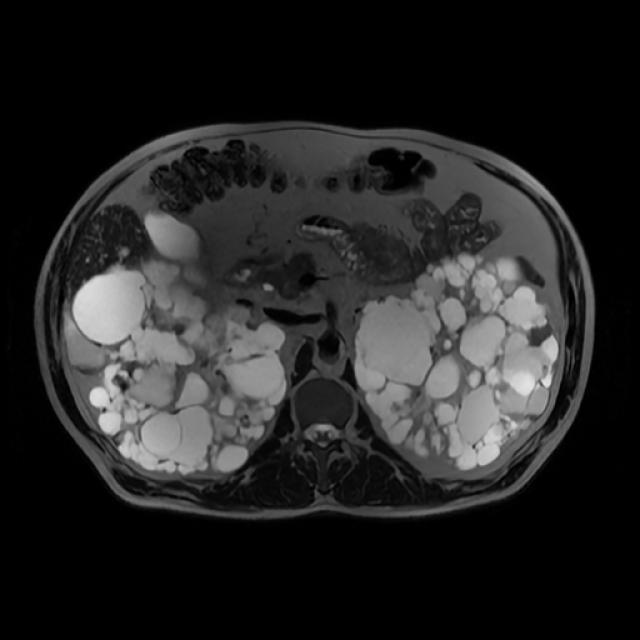sag: (70, 258, 286, 475)
sol: (357, 253, 558, 471)
